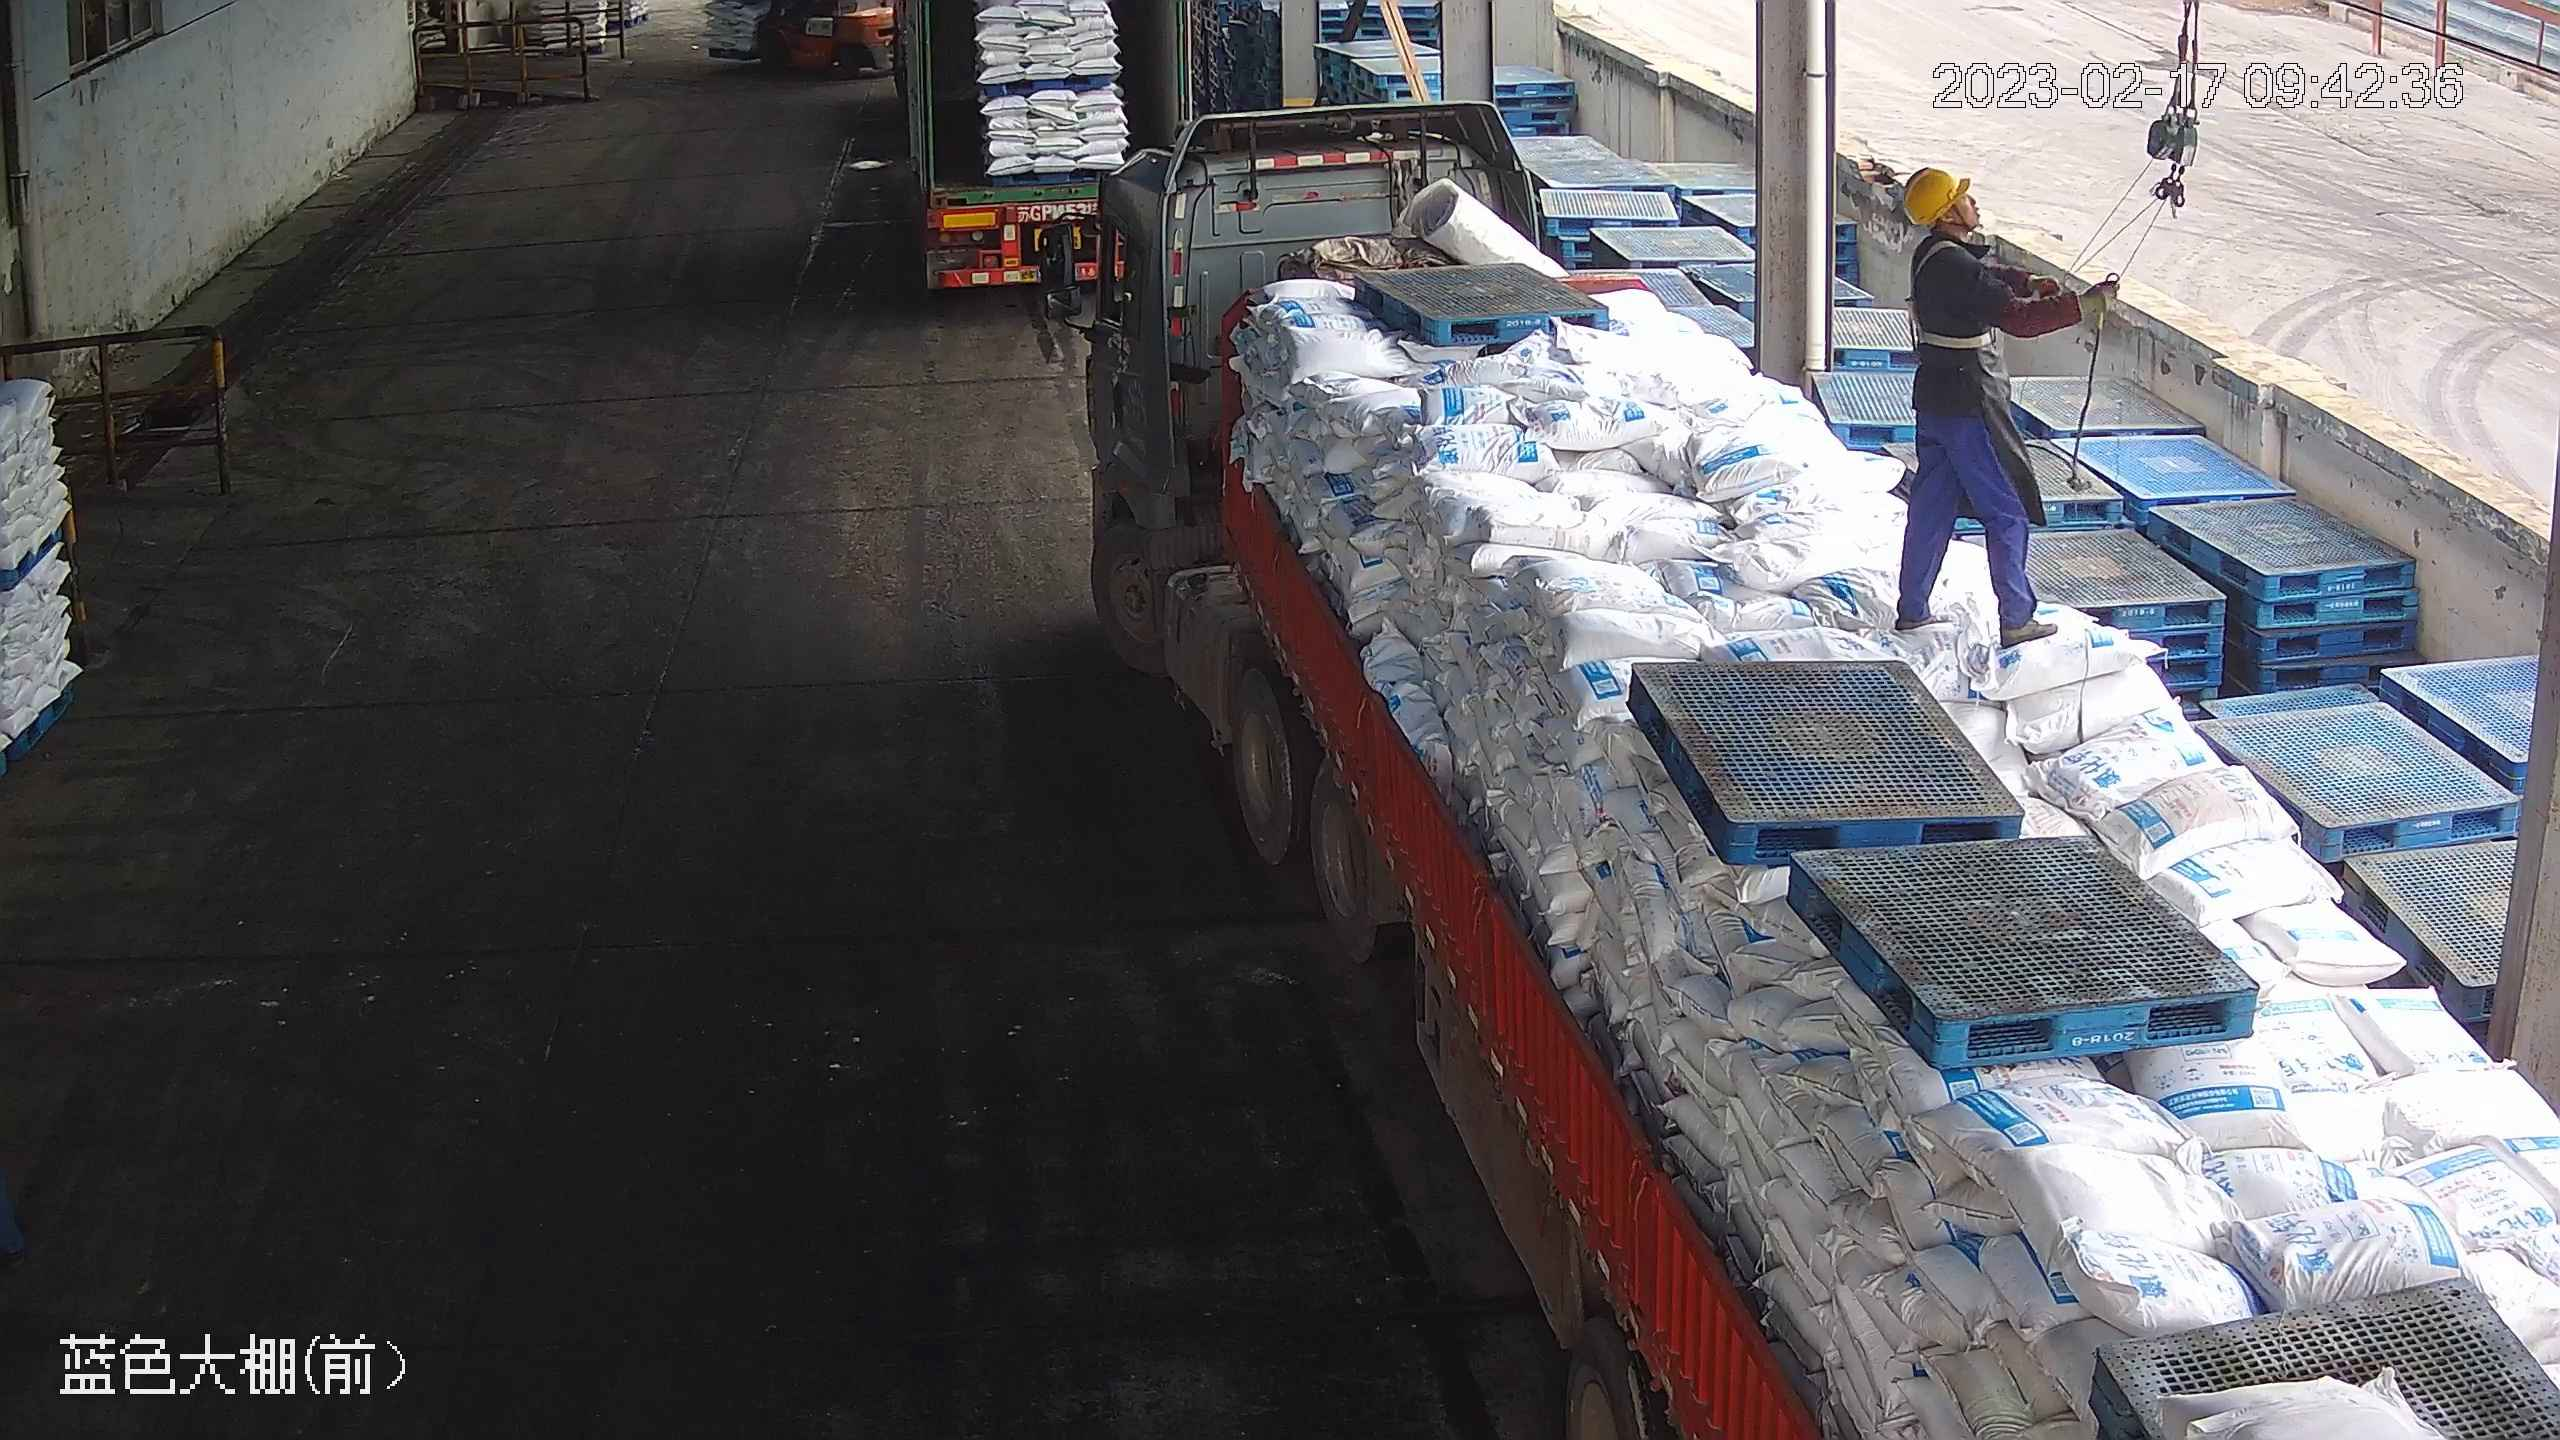belt: (1904, 232, 1990, 354)
head: (1902, 163, 2015, 307)
helmet: (1902, 161, 1967, 227)
people: (1887, 162, 2111, 654)
truck: (1040, 95, 2556, 1440), (889, 1, 1193, 293)
